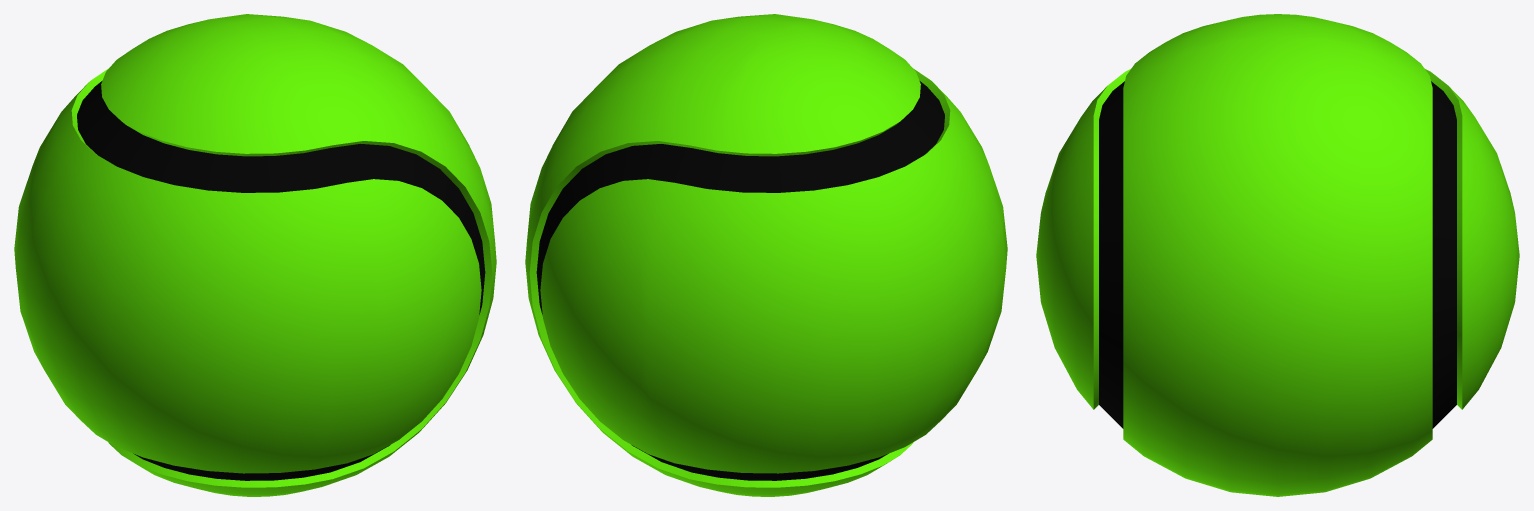
The model's file is tennis-ball.fbx.
The picture shows the model from 3 angles, left to right: view 1: azimuth 30°, elevation 25°; view 2: azimuth 150°, elevation 25°; view 3: azimuth 270°, elevation 25°; orthographic projection.
Visible parts, largest first — view 1: Sphere.001; view 2: Sphere.001; view 3: Sphere.001.
Boxes of the visible parts, bbox=[...] form: Sphere.001: bbox=[14, 14, 496, 496]; Sphere.001: bbox=[525, 14, 1007, 496]; Sphere.001: bbox=[1036, 14, 1519, 496].
Bounding box in the file's own units: 55.95 × 55.95 × 55.95.
